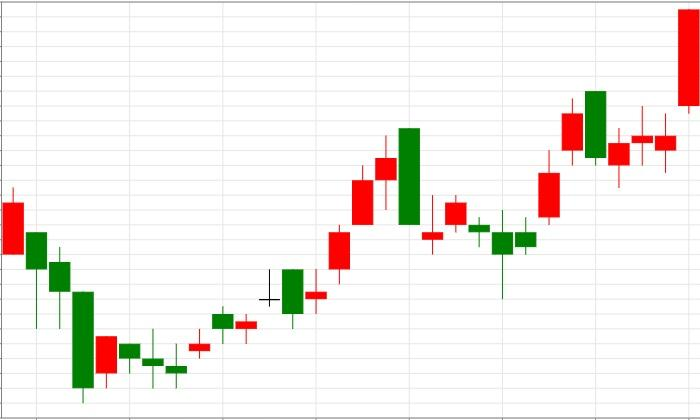bearish_engulfing_fall: (165, 127, 421, 388), (491, 90, 607, 299)
